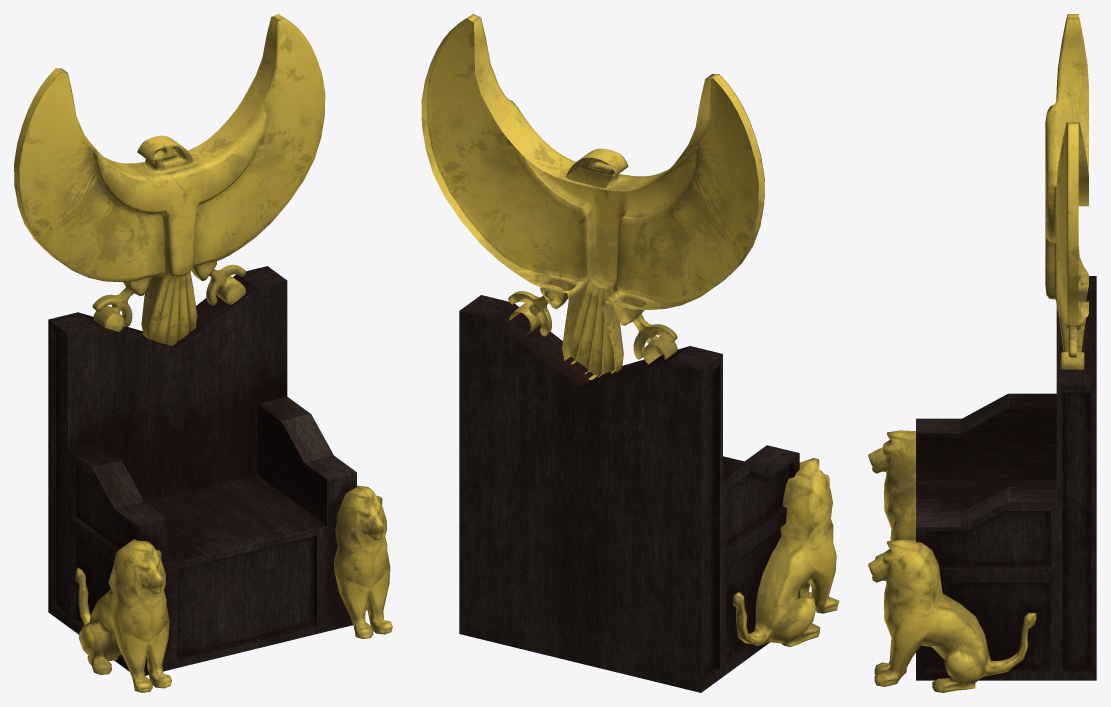
File: throne-sketch-3.glb
The picture shows the model from 3 angles, left to right: view 1: azimuth 30°, elevation 25°; view 2: azimuth 150°, elevation 25°; view 3: azimuth 270°, elevation 25°; orthographic projection. The views are drawn at different scales.
Parts seen in each view (by area): view 1: chair_low, eagle_low, lion_A_low, lion_B_low; view 2: chair_low, eagle_low, lion_A_low; view 3: chair_low, eagle_low, lion_B_low, lion_A_low.
Boxes of the visible parts, box(x1,y1,x2,y2) form: chair_low: box(48, 266, 356, 675); eagle_low: box(14, 14, 325, 345); lion_A_low: box(75, 539, 171, 692); lion_B_low: box(334, 485, 392, 638); chair_low: box(459, 295, 799, 692); eagle_low: box(421, 14, 764, 379); lion_A_low: box(733, 458, 839, 647); chair_low: box(916, 276, 1096, 680); eagle_low: box(1045, 14, 1088, 369); lion_B_low: box(868, 539, 1036, 692); lion_A_low: box(868, 430, 915, 559).
Bounding box in the file's own units: 9.28 × 15.96 × 5.93.
3 materials, 3 textured.
